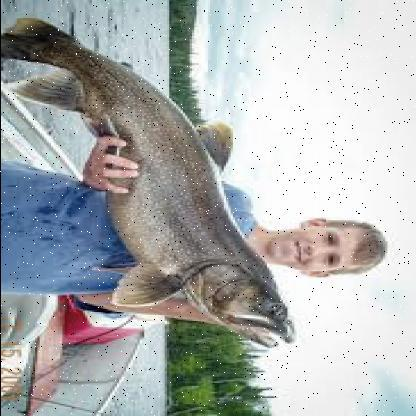fish: (2, 15, 300, 346)
